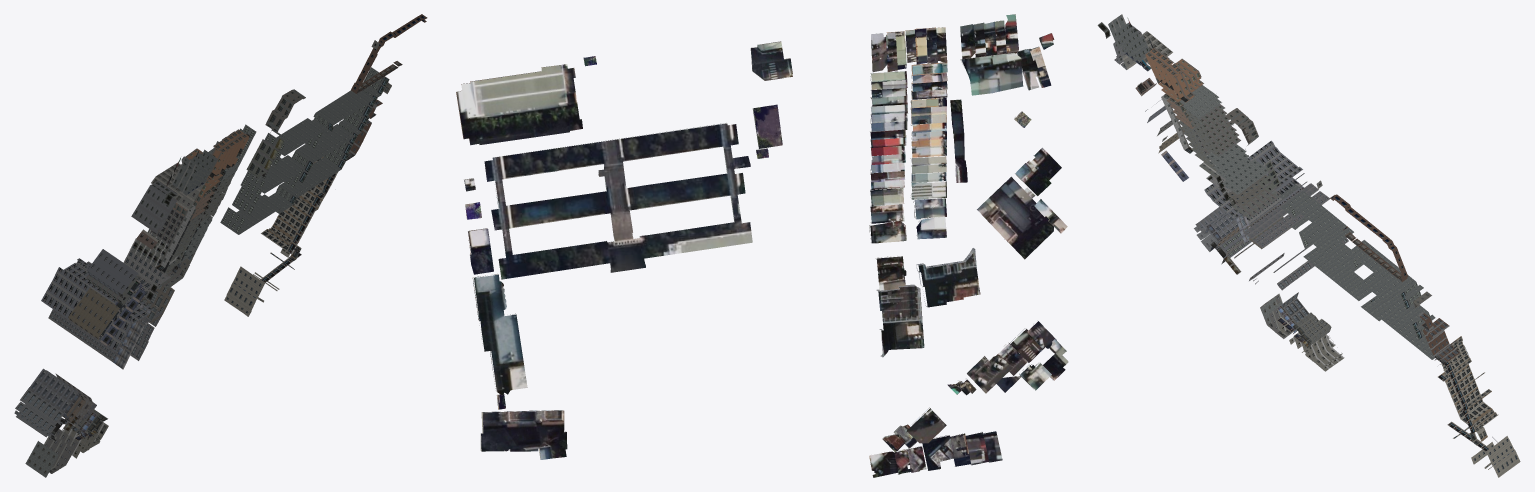
The model's file is tile_LOD8_r1_c3.glb.
The picture shows the model from 3 angles, left to right: view 1: azimuth 30°, elevation 25°; view 2: azimuth 150°, elevation 25°; view 3: azimuth 270°, elevation 25°; orthographic projection. The views are drawn at different scales.
Size of the model in its own units: 304 by 216 by 239.
266 materials, 266 textured.
